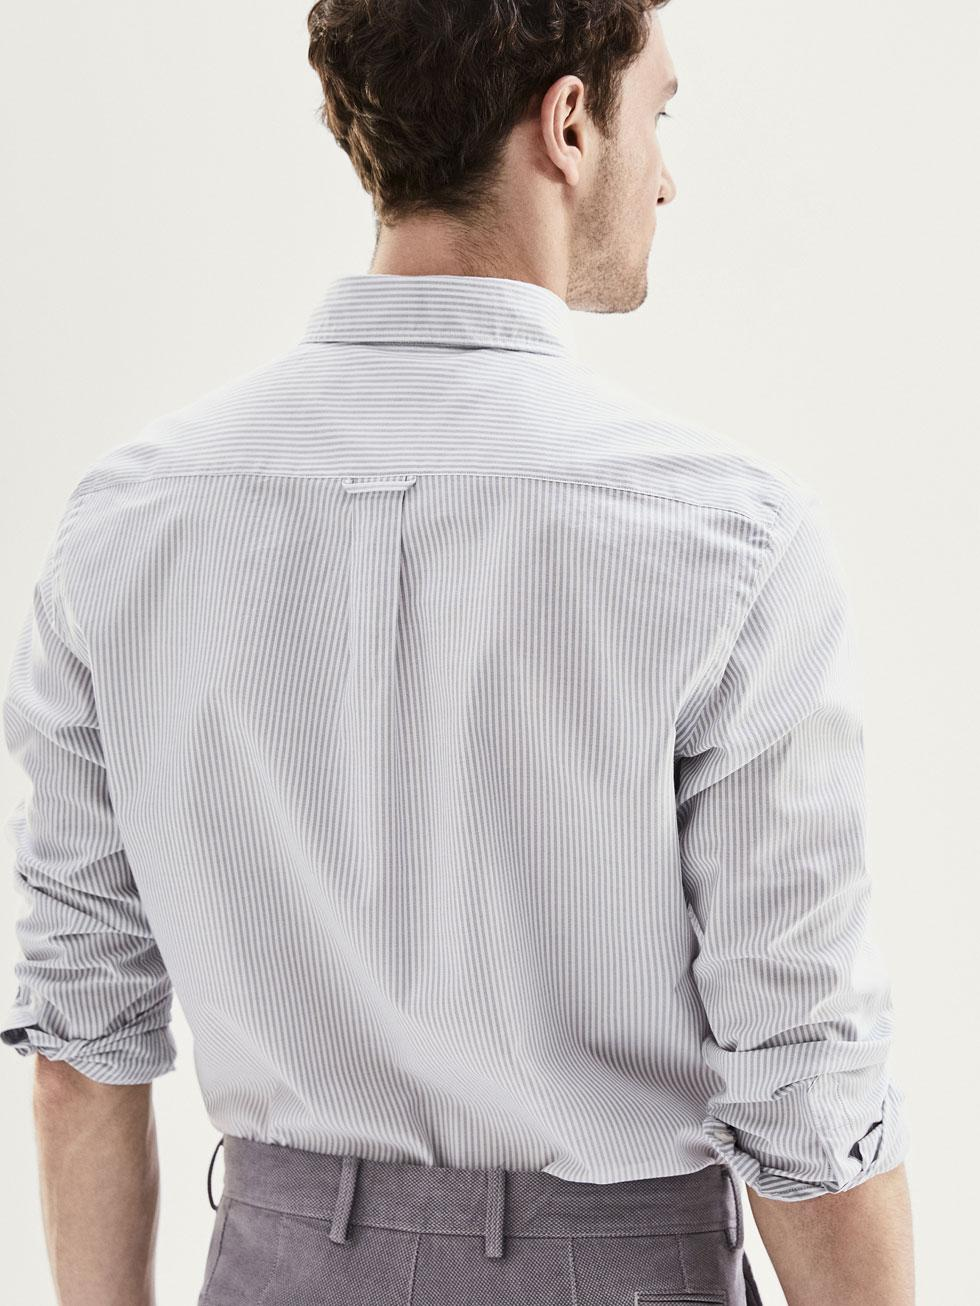teeshirt: (29, 269, 941, 1233)
